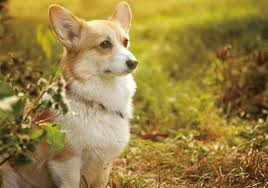dog: (91, 33, 140, 78)
